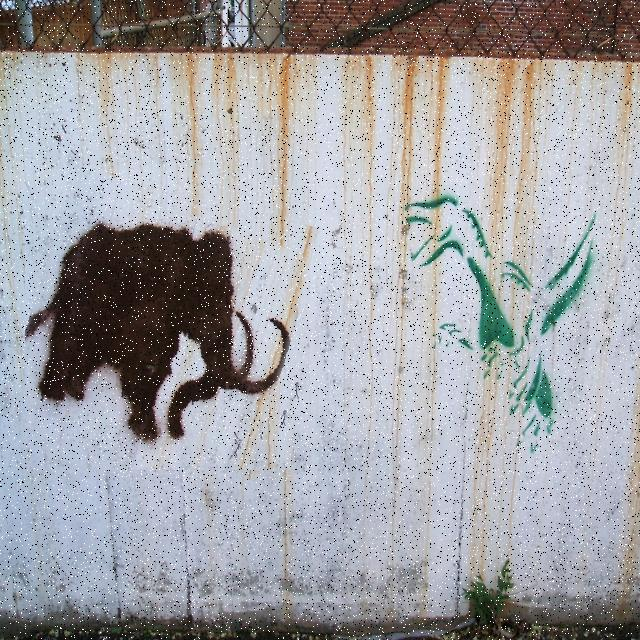elephant: (25, 180, 306, 470)
